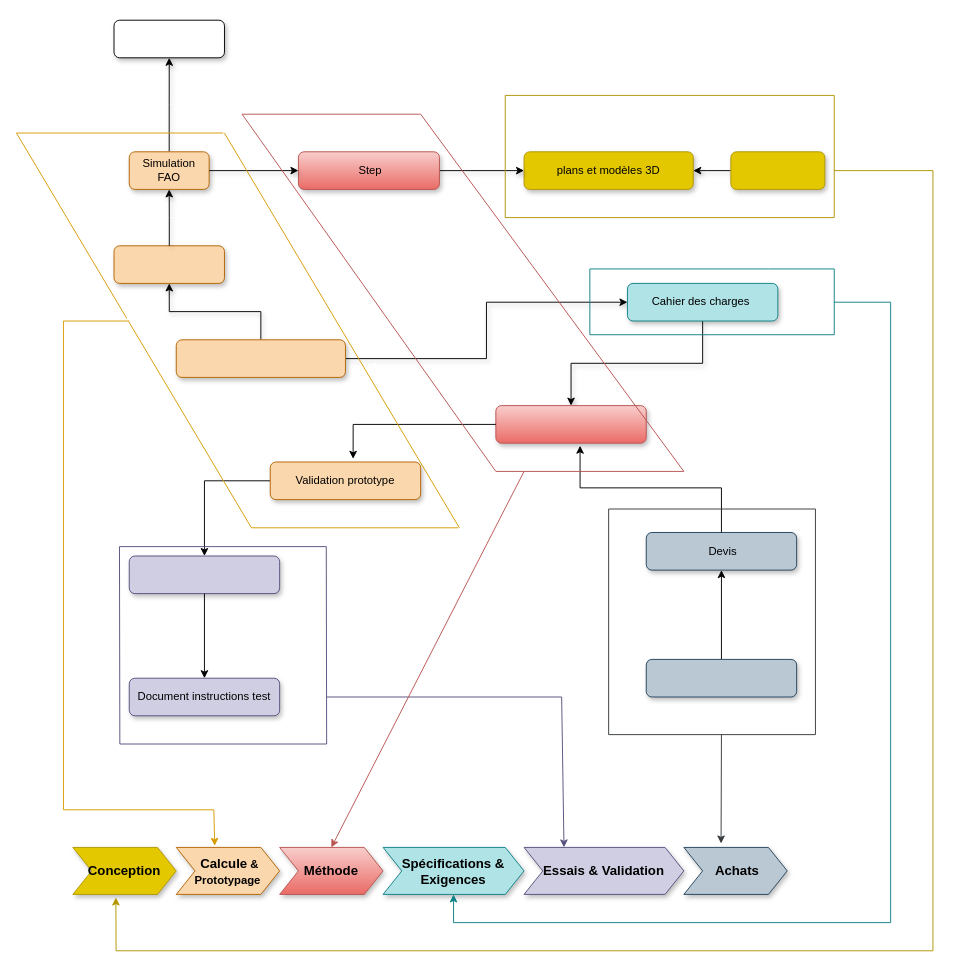
This 957x975 diagram has some shape labels left out. Each missing label, with the centre of its shape:
Facture: [722,679]
Gamme assemblage: [571,425]
Notice de calculs: [261,359]
Parc machines: [169,40]
plans 2D: [778,171]
rapport essais: [205,575]
Resultats: [169,265]
